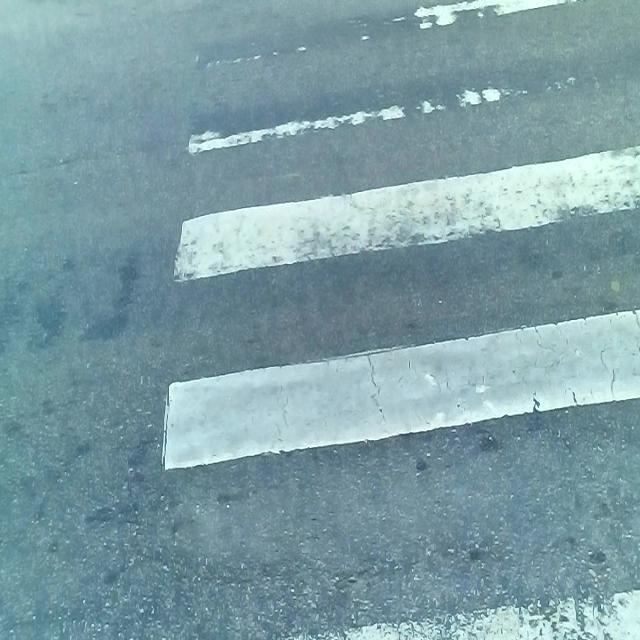crosswalk: (158, 0, 640, 640)
